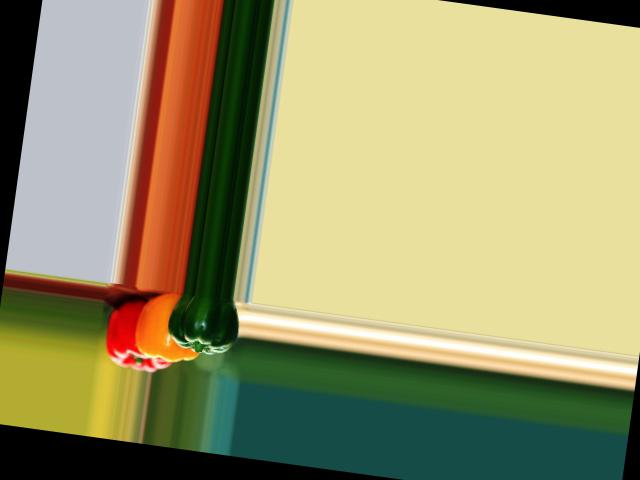bell_pepper: (103, 286, 180, 374)
